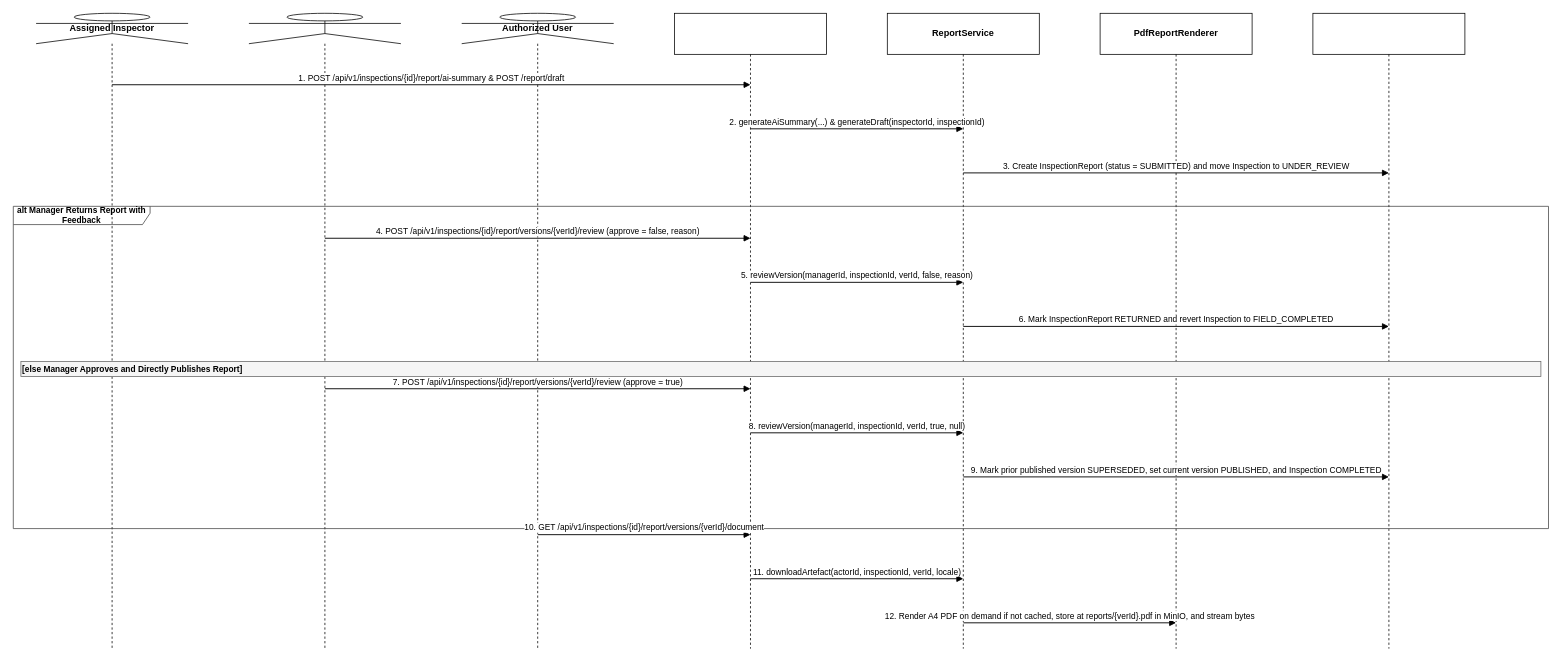
This 1562x662 diagram has some shape labels left out. Here are the shapes that lost their labels. From the top down, the box of each, then its label:
(248, 13, 401, 649): Independent Manager
(674, 13, 826, 649): InspectionController
(1312, 13, 1465, 649): PostgreSQL & MinIO
